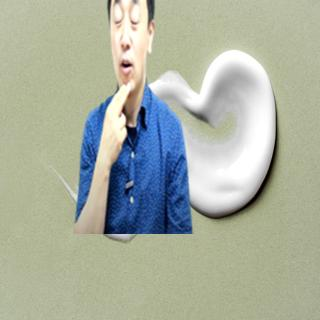DHAVE: (90, 80, 136, 168)
